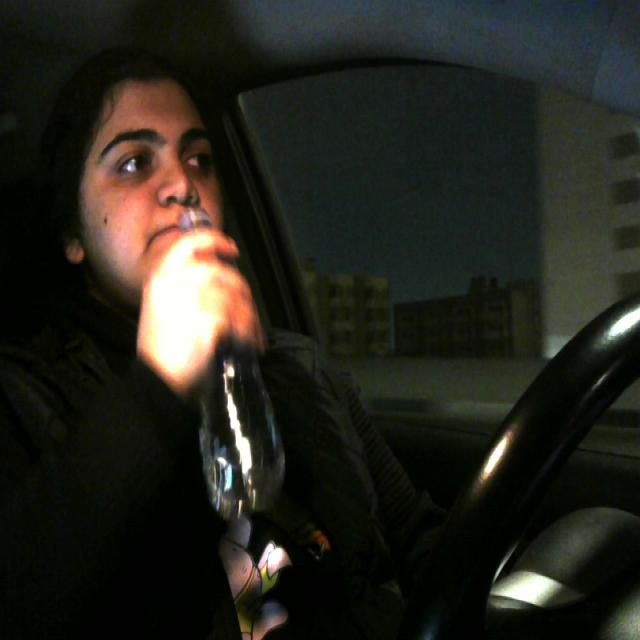drinking: (146, 196, 288, 519)
